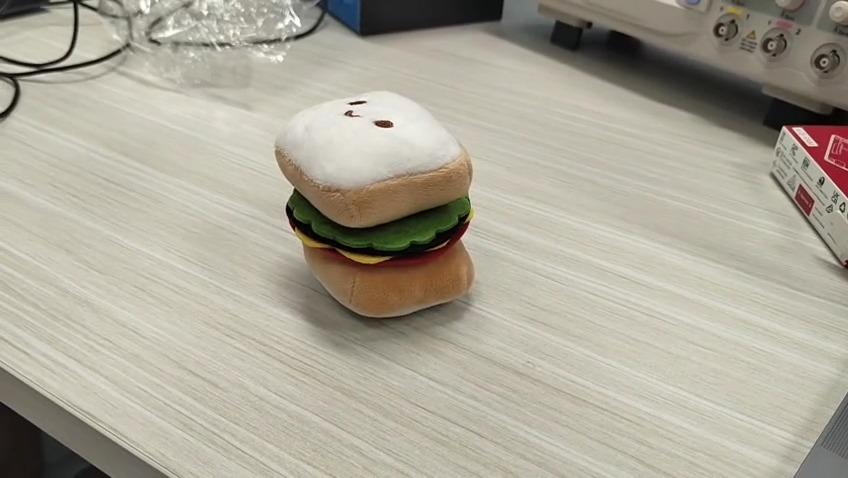objects: (275, 89, 475, 320)
